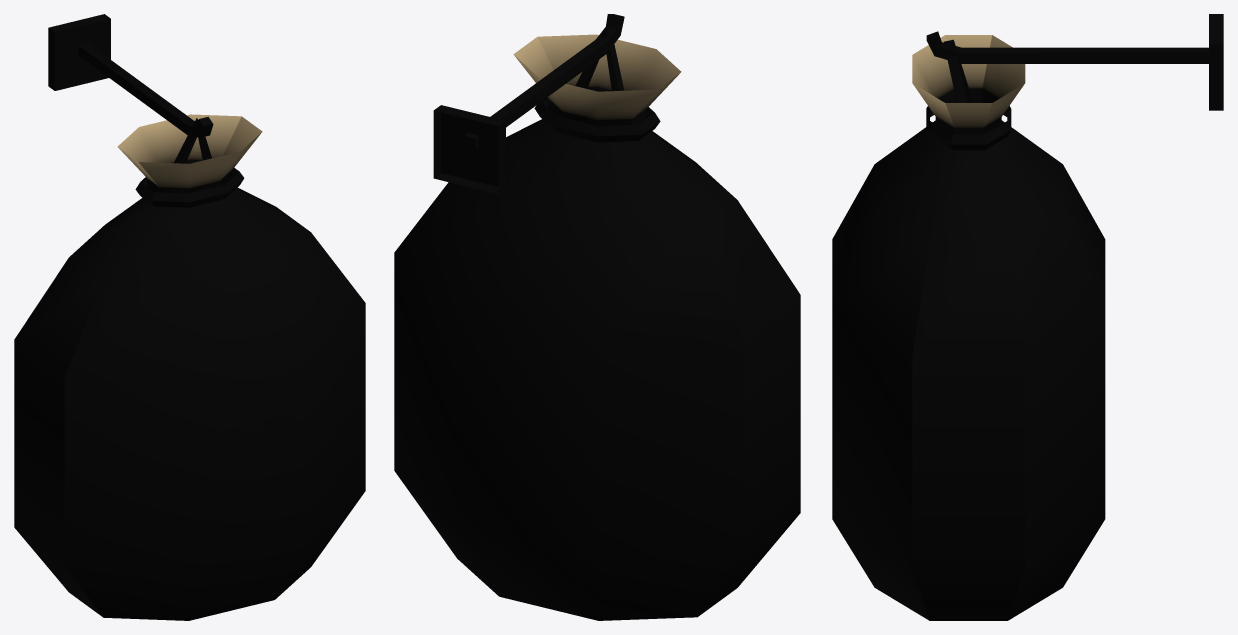
File: mail_sack.glb
3 renders of one model, left to right at view 1: azimuth 30°, elevation 25°; view 2: azimuth 150°, elevation 25°; view 3: azimuth 270°, elevation 25°, orthographic. The views are drawn at different scales.
Parts seen in each view (by area): view 1: sacking, dark, stencil, rope; view 2: sacking, dark, rope; view 3: sacking, dark, rope.
Boxes of the visible parts, bbox=[...] form: sacking: bbox=[14, 114, 365, 620]; dark: bbox=[48, 14, 213, 137]; stencil: bbox=[210, 413, 293, 482]; rope: bbox=[135, 118, 244, 207]; sacking: bbox=[394, 34, 800, 620]; dark: bbox=[433, 14, 624, 194]; rope: bbox=[534, 25, 660, 142]; sacking: bbox=[832, 35, 1105, 620]; dark: bbox=[926, 14, 1223, 110]; rope: bbox=[926, 39, 1011, 150].
Bounding box in the file's own units: 0.2679 × 0.415 × 0.2708.
